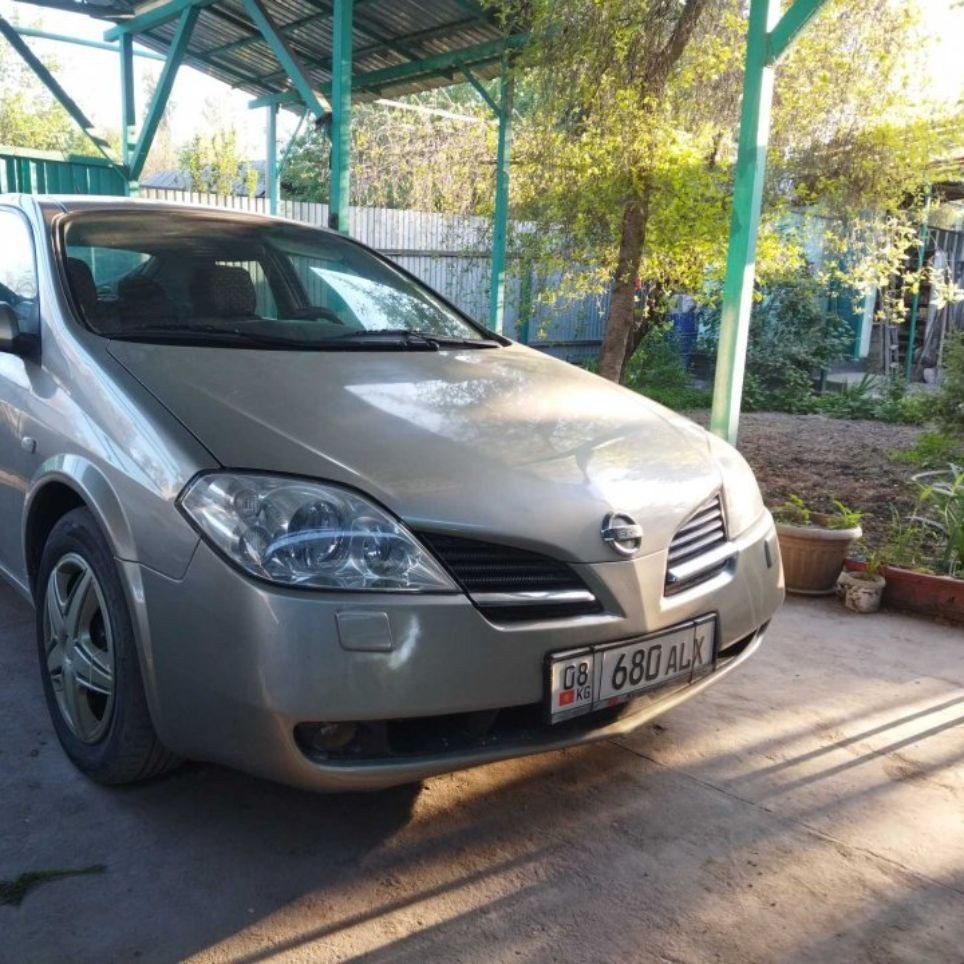license plate: (545, 610, 718, 727)
truck: (1, 187, 793, 800)
